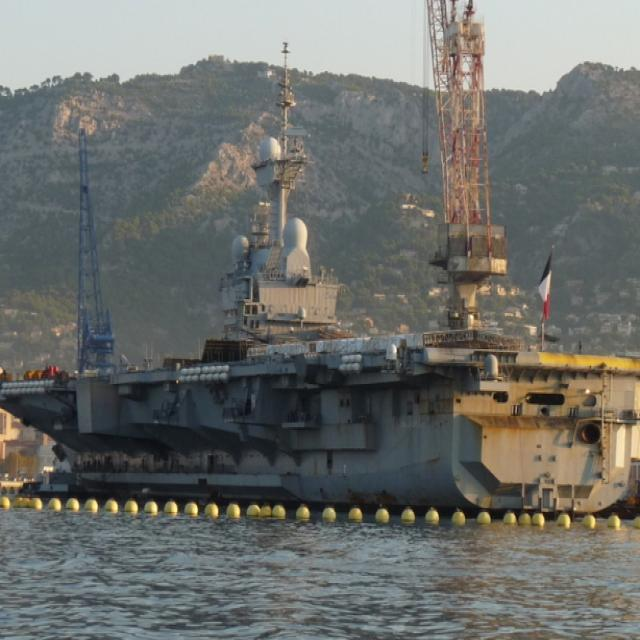Portanaves: (1, 136, 640, 525)
